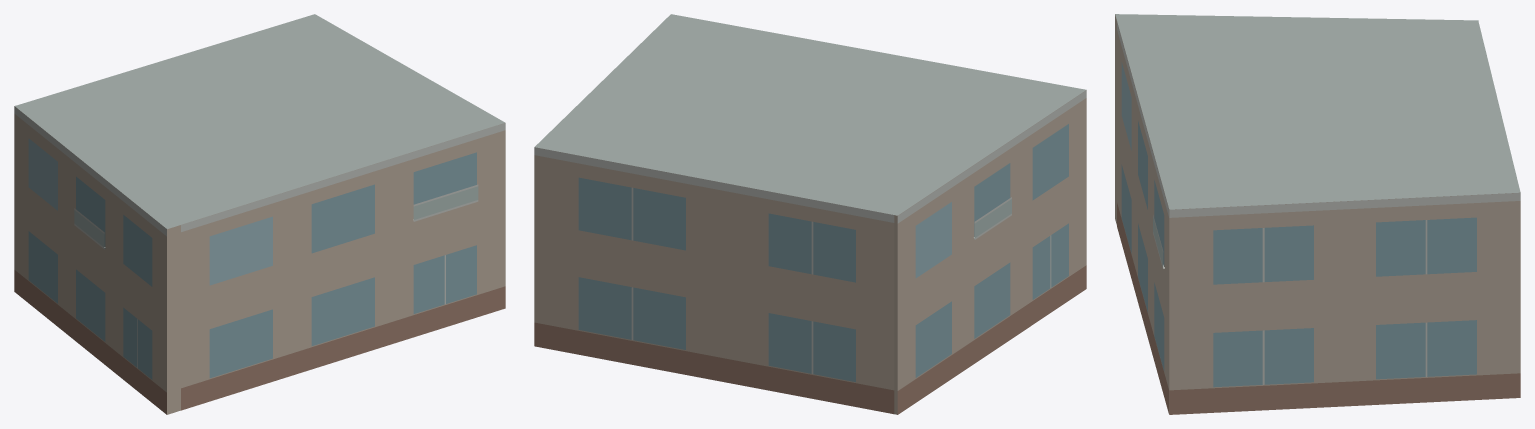
File: survey-upis-32610339.glb
3 renders of one model, left to right at view 1: azimuth 30°, elevation 25°; view 2: azimuth 150°, elevation 25°; view 3: azimuth 270°, elevation 25°, orthographic. The views are drawn at different scales.
Parts seen in each view (by area): view 1: survey-upis-32610339.tmp; view 2: survey-upis-32610339.tmp; view 3: survey-upis-32610339.tmp.
Boxes of the visible parts, x1,y1,x2,y2 form: survey-upis-32610339.tmp: (14,14,505,414); survey-upis-32610339.tmp: (534,14,1086,414); survey-upis-32610339.tmp: (1115,14,1520,414).
Size of the model in its own units: 12.49 by 6.1 by 10.94.
